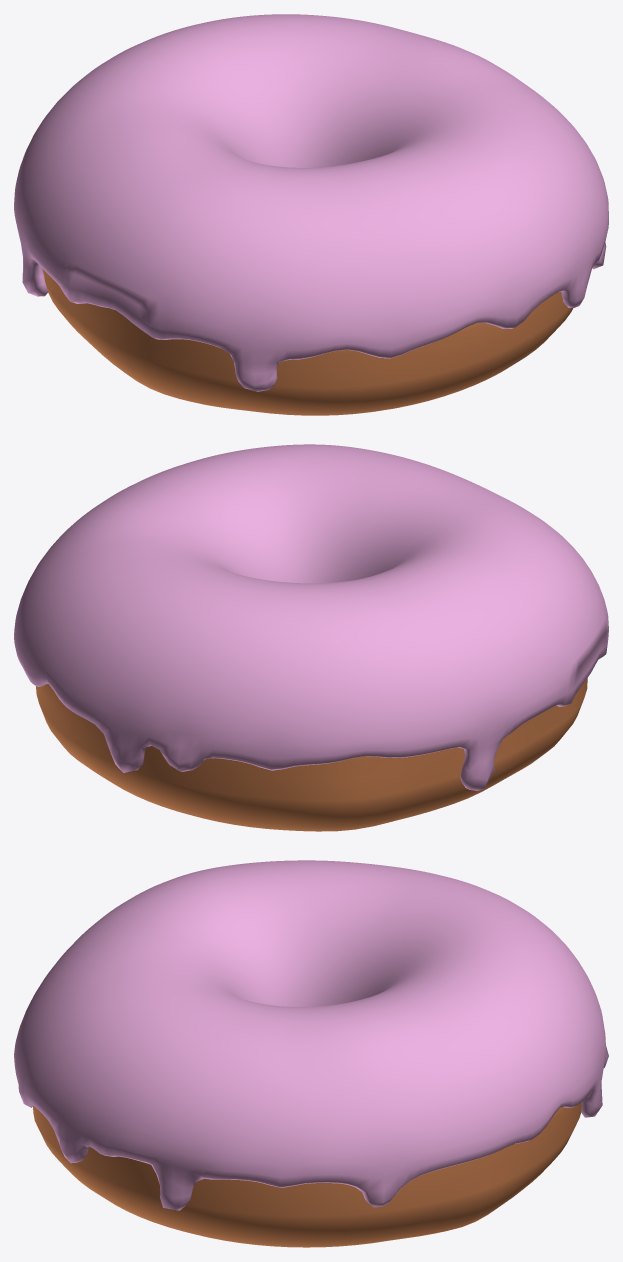
File: Donut Practise.fbx
The picture shows the model from 3 angles, top to bottom: view 1: azimuth 30°, elevation 25°; view 2: azimuth 150°, elevation 25°; view 3: azimuth 270°, elevation 25°; orthographic projection.
Parts seen in each view (by area): view 1: Icing, Dogonut; view 2: Icing, Dogonut; view 3: Icing, Dogonut.
Part boxes in pixels (left/top/right/bottom): Icing: left=14, top=14, right=608, bottom=391; Dogonut: left=42, top=269, right=573, bottom=415; Icing: left=14, top=444, right=608, bottom=790; Dogonut: left=36, top=678, right=587, bottom=831; Icing: left=14, top=860, right=608, bottom=1210; Dogonut: left=33, top=1102, right=581, bottom=1247.
Bounding box in the file's own units: 10.06 × 4.34 × 10.22.
